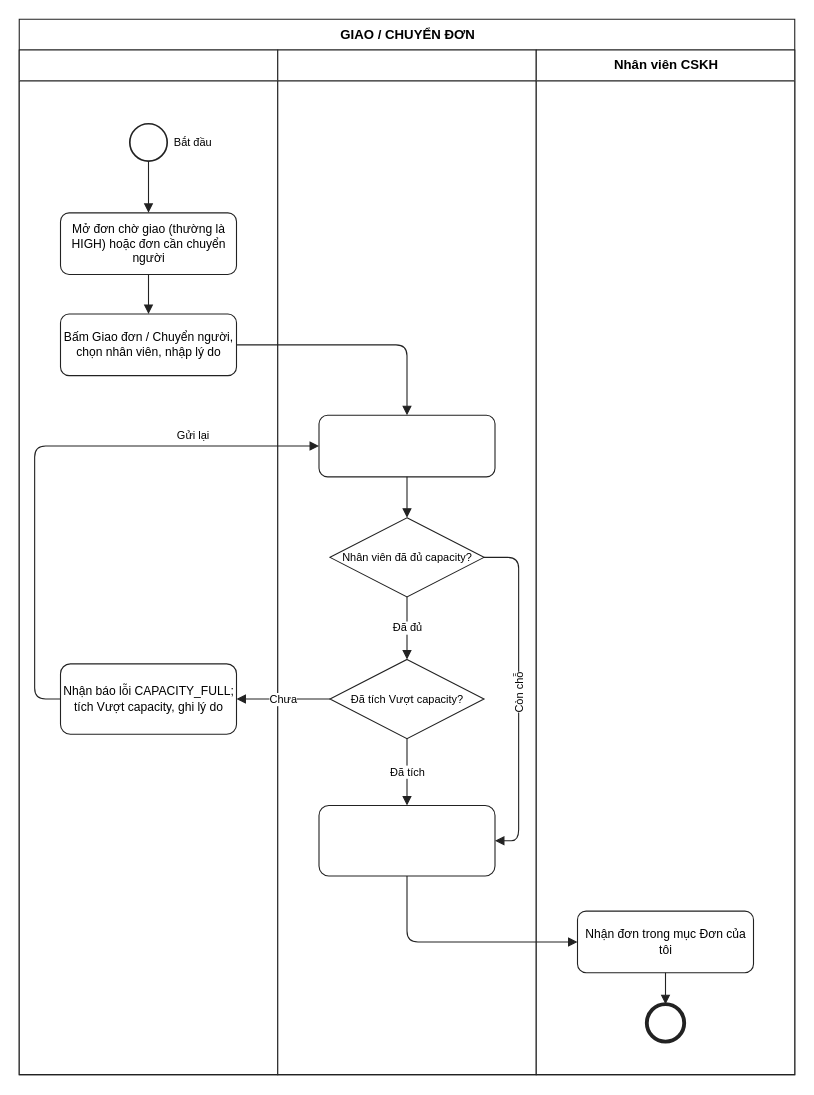
The diagram is 814 pixels wide and 1095 high, and some of its shapes have lost their labels. Each missing label, with the box of its shape:
Giải phóng assignment cũ, tạo assignment mới, ghi audit (kèm override nếu vượt): (318, 804, 495, 876)
Hệ thống: (277, 49, 536, 1075)
Kiểm tra vai trò, trạng thái, lý do: (318, 414, 495, 477)
Kết thúc: (644, 1002, 686, 1043)
Quản lý: (18, 49, 278, 1075)
